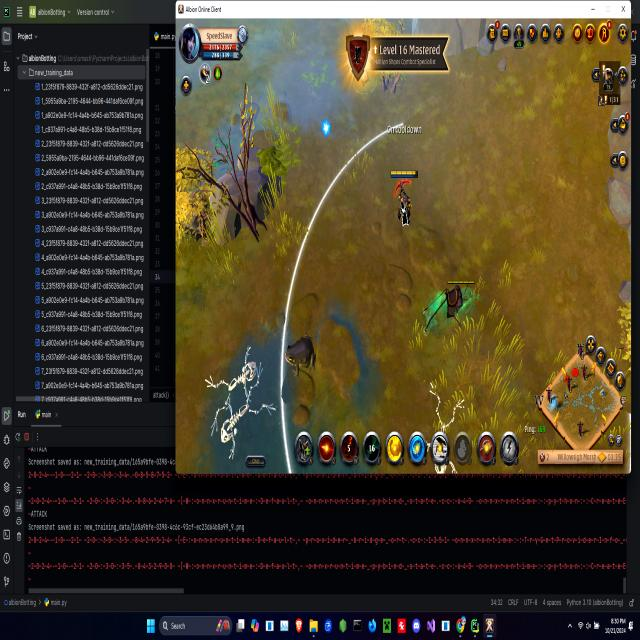ore: (280, 330, 322, 380)
red: (390, 167, 420, 232)
